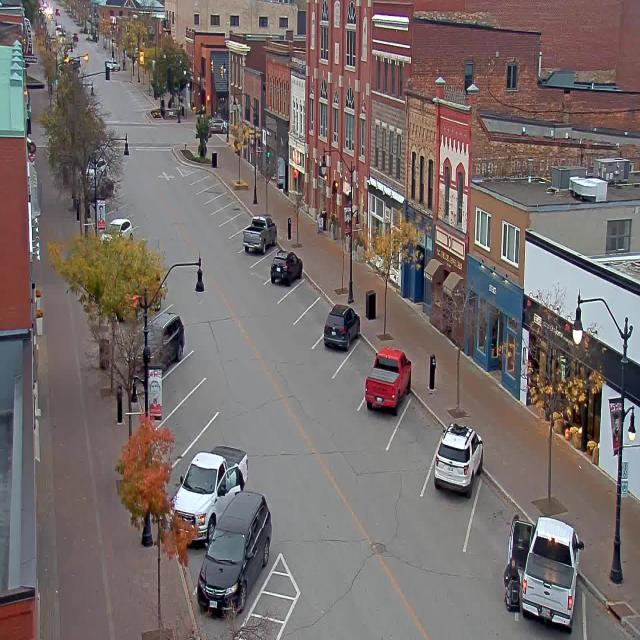available: (579, 587, 640, 640), (402, 388, 445, 460), (479, 481, 521, 554), (185, 372, 226, 434), (198, 403, 238, 462), (347, 327, 382, 387), (173, 340, 209, 394), (304, 285, 338, 337), (290, 264, 319, 312), (253, 237, 280, 275), (230, 206, 252, 234), (224, 195, 243, 222), (201, 167, 219, 194), (216, 187, 234, 212), (192, 161, 209, 185), (209, 176, 224, 202)
occupied: (196, 489, 272, 616), (519, 515, 584, 631), (170, 449, 243, 547), (434, 421, 484, 496), (364, 346, 412, 414), (143, 308, 185, 363), (323, 302, 360, 351), (242, 214, 277, 254), (270, 248, 303, 286)
